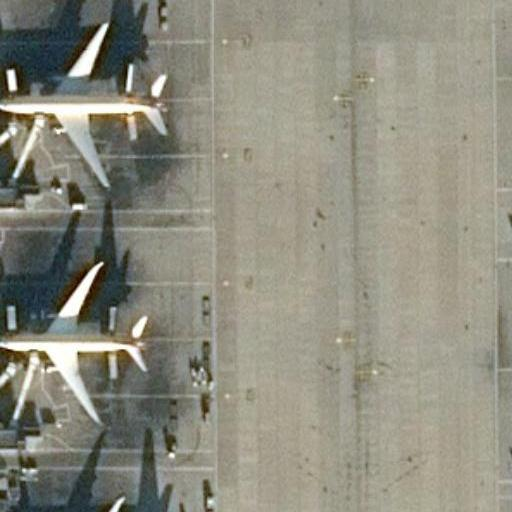Aircraft: (1, 16, 169, 187), (0, 21, 173, 187), (1, 260, 156, 430), (0, 256, 149, 425), (1, 490, 192, 512), (1, 497, 204, 512)
